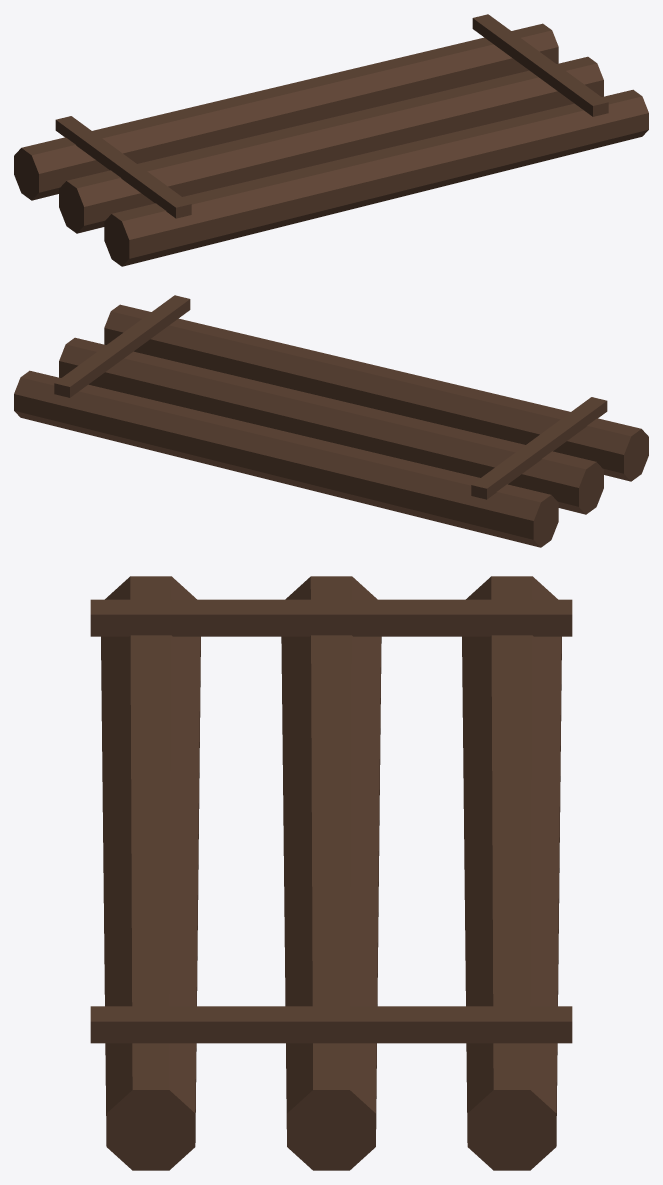
The model's file is log_bridge.glb.
3 renders of one model, top to bottom at view 1: azimuth 30°, elevation 25°; view 2: azimuth 150°, elevation 25°; view 3: azimuth 270°, elevation 25°, orthographic. The views are drawn at different scales.
Visible parts, largest first — view 1: log_bridge; view 2: log_bridge; view 3: log_bridge.
Boxes of the visible parts, <box> form: log_bridge: <box>14,14,648,266</box>; log_bridge: <box>14,295,648,547</box>; log_bridge: <box>90,576,572,1170</box>.
Bounding box in the file's own units: 4 × 0.4063 × 1.6.
